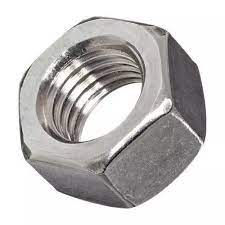Thread: (28, 33, 159, 144)
